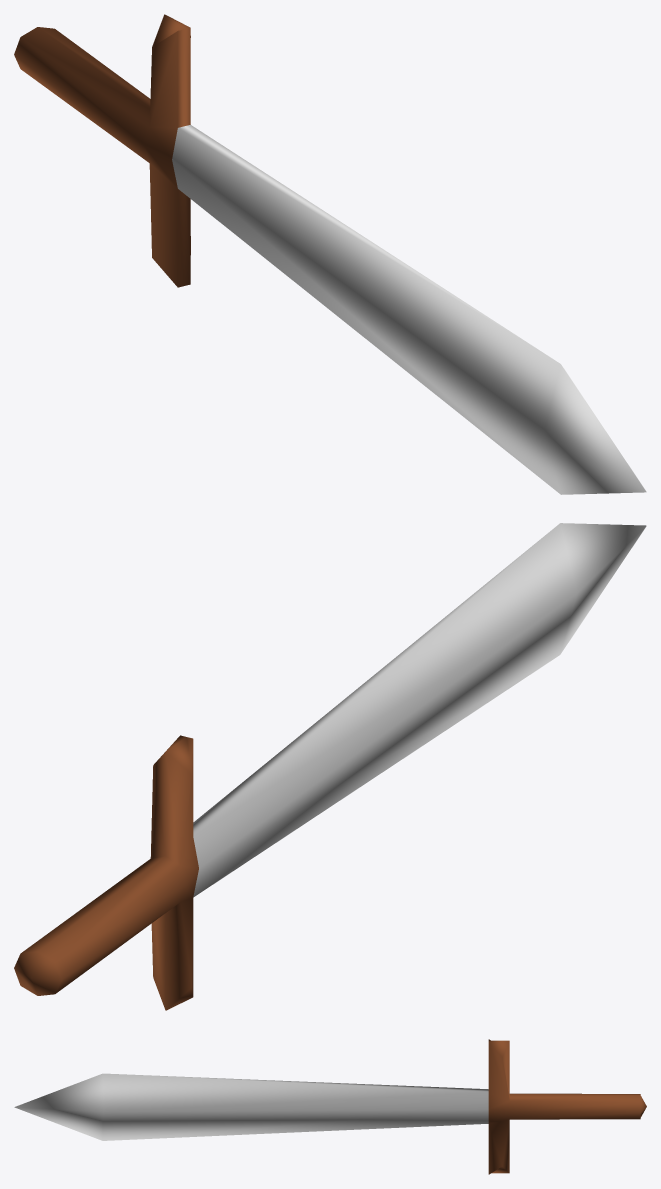
Rendered from Steel Sword.fbx.
The picture shows the model from 3 angles, top to bottom: view 1: azimuth 30°, elevation 25°; view 2: azimuth 150°, elevation 25°; view 3: azimuth 270°, elevation 25°; orthographic projection. The views are drawn at different scales.
Parts seen in each view (by area): view 1: Plane.003; view 2: Plane.003; view 3: Plane.003.
Part boxes in pixels (box(x1,y1,x2,y2)): Plane.003: box(14, 14, 646, 494); Plane.003: box(14, 523, 646, 1010); Plane.003: box(14, 1039, 646, 1174).
Bounding box in the file's own units: 12.42 × 64.48 × 279.
